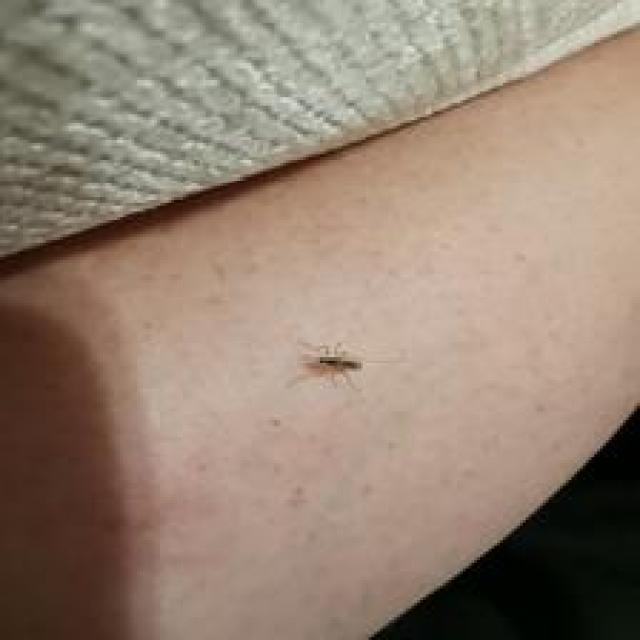Culex: (300, 340, 363, 389)
